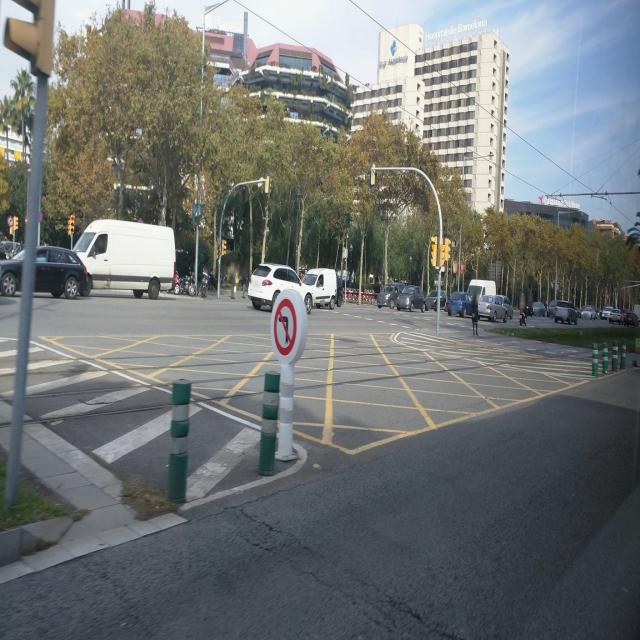bike: (520, 306, 528, 326)
car: (70, 219, 177, 299), (0, 243, 91, 299), (247, 262, 309, 312), (299, 267, 339, 310), (476, 294, 512, 322), (395, 287, 426, 312), (376, 284, 402, 309), (447, 291, 472, 317), (553, 300, 578, 324), (424, 289, 448, 311), (608, 308, 623, 325), (622, 310, 637, 326), (532, 301, 547, 316), (581, 306, 597, 319), (600, 306, 612, 320)
